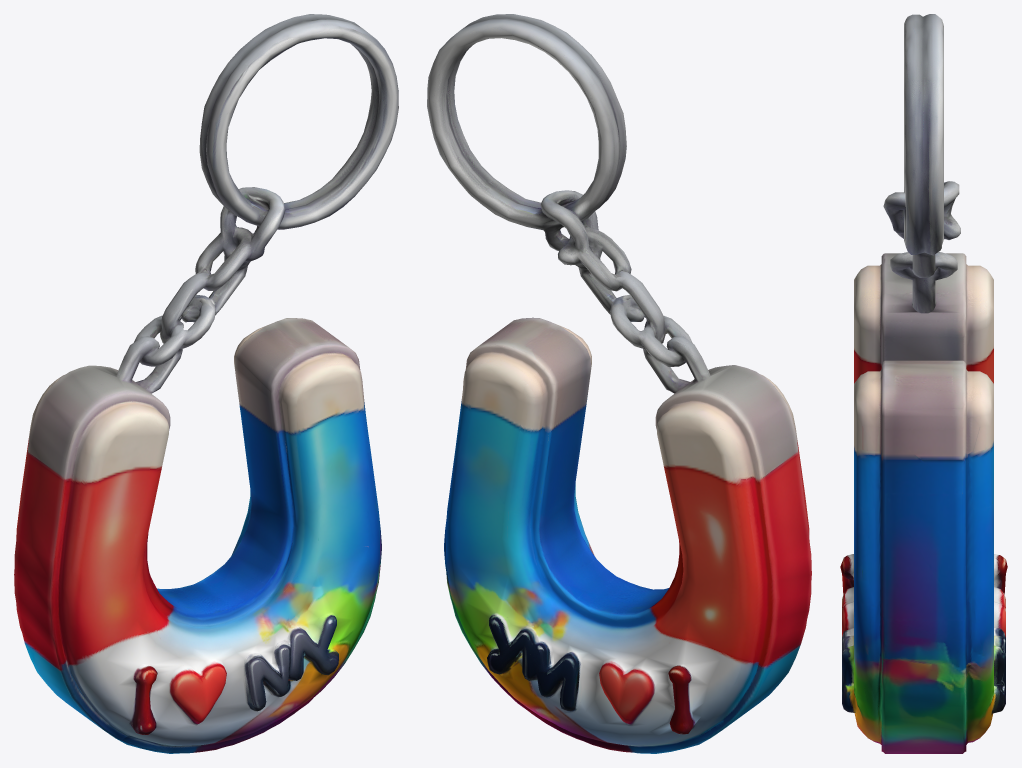
Rendered from Meshy_AI_Magnet_Clip_0227123023_texture.fbx.
The picture shows the model from 3 angles, left to right: view 1: azimuth 30°, elevation 25°; view 2: azimuth 150°, elevation 25°; view 3: azimuth 270°, elevation 25°; orthographic projection. The views are drawn at different scales.
Visible parts, largest first — view 1: Mesh_0; view 2: Mesh_0; view 3: Mesh_0.
Part boxes in pixels (x1,y1,x2,y2): Mesh_0: (14,14,398,753); Mesh_0: (427,14,811,753); Mesh_0: (840,14,1007,753).
Bounding box in the file's own units: 105 × 191 × 37.96.
Materials: 1 (1 with a texture image).
